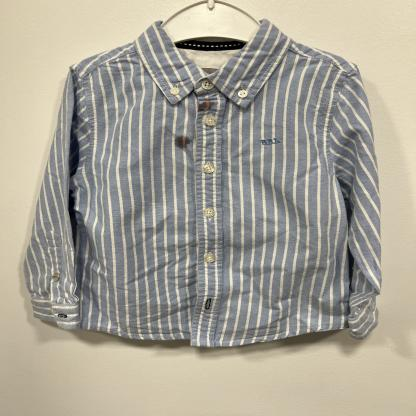stain: (170, 133, 195, 152), (193, 97, 217, 115)
